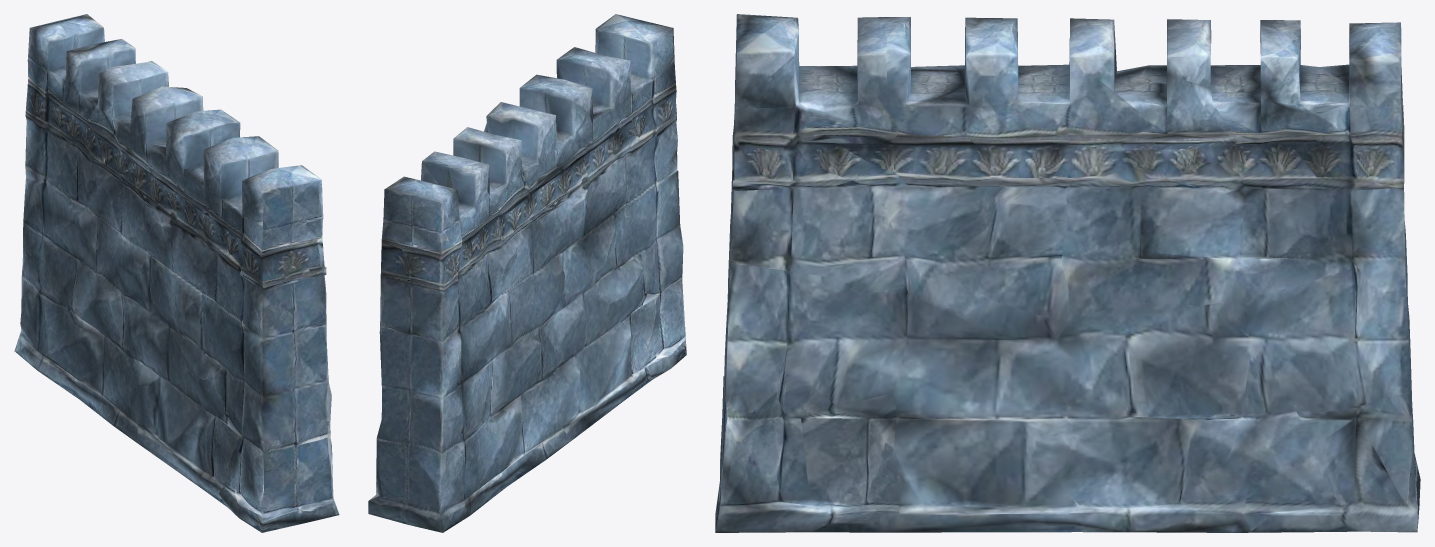
The model's file is castle_wall_diamond_ice.glb.
3 renders of one model, left to right at view 1: azimuth 30°, elevation 25°; view 2: azimuth 150°, elevation 25°; view 3: azimuth 270°, elevation 25°, orthographic. The views are drawn at different scales.
Visible parts, largest first — view 1: tripo_node_9be18747-6542-4d4e-8204-1c5a12660f5c; view 2: tripo_node_9be18747-6542-4d4e-8204-1c5a12660f5c; view 3: tripo_node_9be18747-6542-4d4e-8204-1c5a12660f5c.
Boxes of the visible parts, x1=… form: tripo_node_9be18747-6542-4d4e-8204-1c5a12660f5c: x1=14, y1=14, x2=339, y2=532; tripo_node_9be18747-6542-4d4e-8204-1c5a12660f5c: x1=368, y1=14, x2=686, y2=532; tripo_node_9be18747-6542-4d4e-8204-1c5a12660f5c: x1=715, y1=14, x2=1420, y2=532.
Bounding box in the file's own units: 0.1877 × 0.7395 × 0.9783.
Materials: 1 (1 with a texture image).
